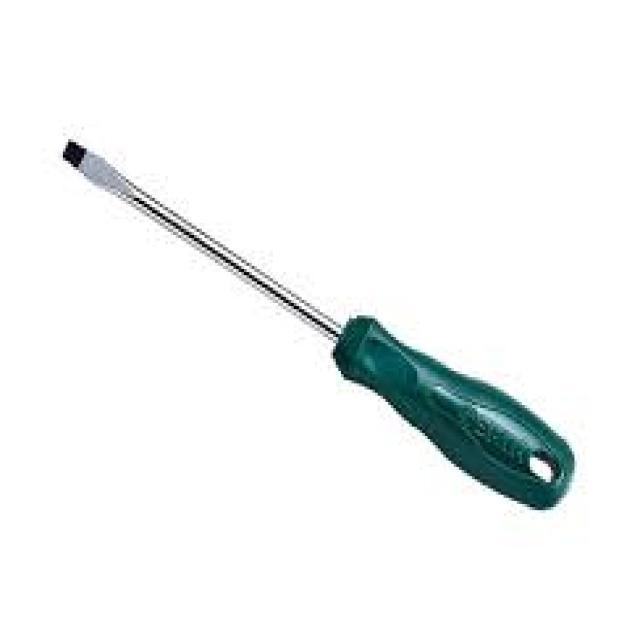screwdriver: (60, 138, 577, 512)
